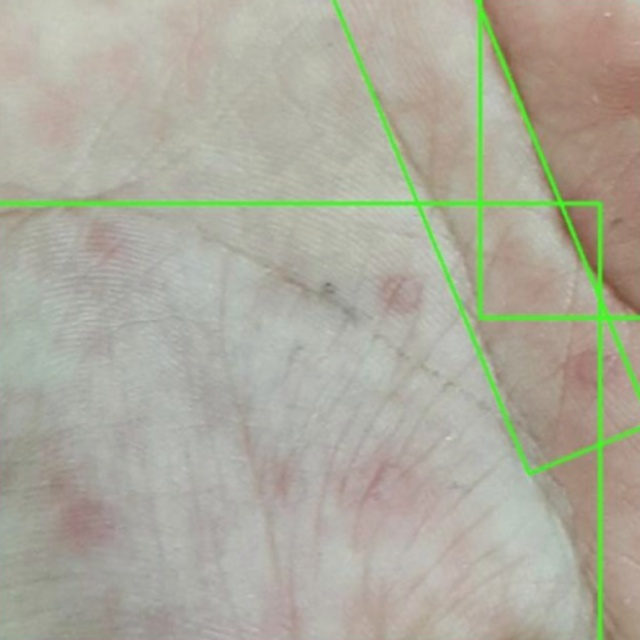Contact Dermatitis: (0, 203, 599, 639), (335, 0, 639, 474), (480, 0, 639, 317)
